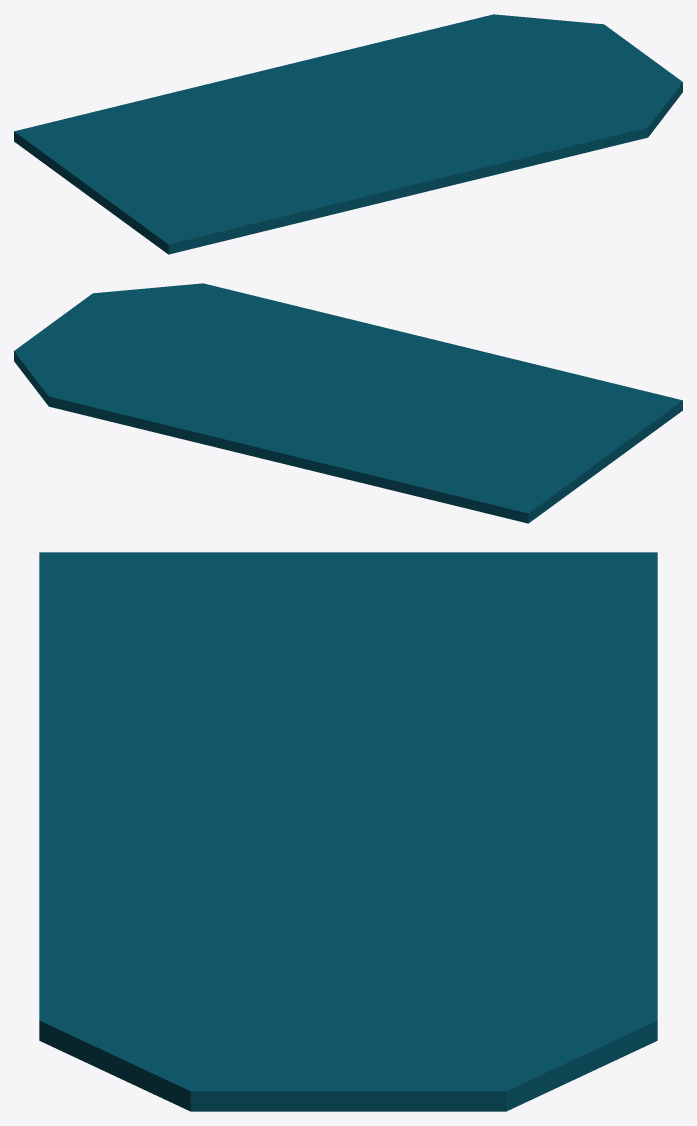
File: PasarelaModulo4_T_Blockout.FBX
3 renders of one model, top to bottom at view 1: azimuth 30°, elevation 25°; view 2: azimuth 150°, elevation 25°; view 3: azimuth 270°, elevation 25°, orthographic. The views are drawn at different scales.
Visible parts, largest first — view 1: PasarelaTubo_Modulo4_T; view 2: PasarelaTubo_Modulo4_T; view 3: PasarelaTubo_Modulo4_T.
Part boxes in pixels (bbox=[...]): PasarelaTubo_Modulo4_T: bbox=[14, 14, 682, 254]; PasarelaTubo_Modulo4_T: bbox=[14, 283, 682, 523]; PasarelaTubo_Modulo4_T: bbox=[39, 552, 657, 1111].
Size of the model in its own units: 134 by 2.36 by 65.18.
